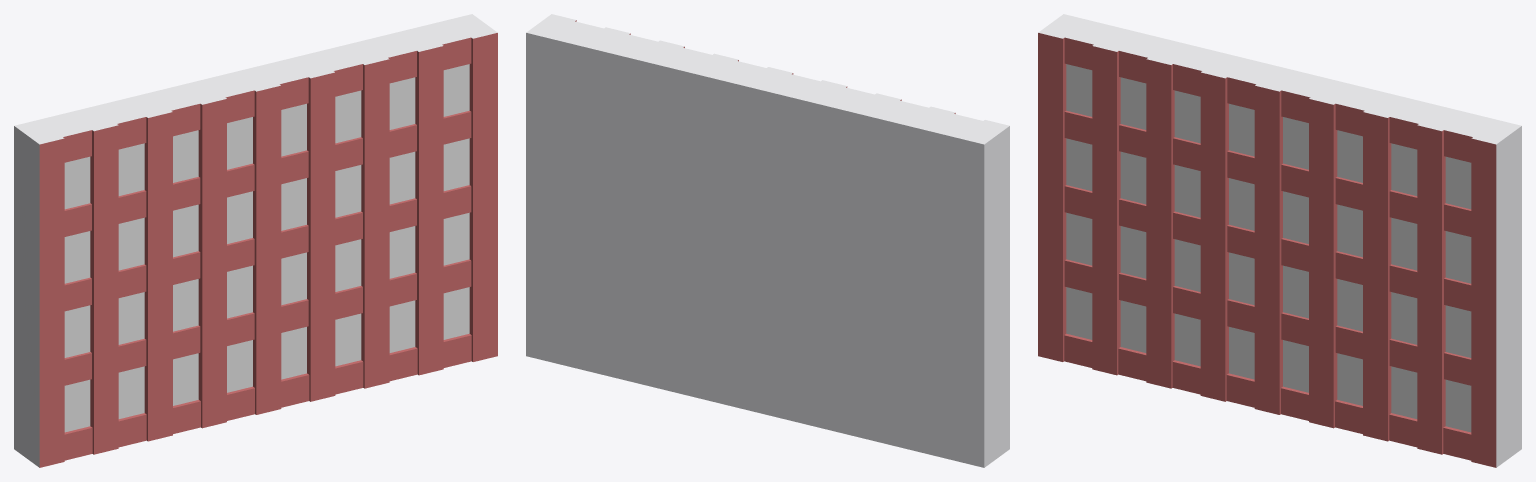
The model's file is Wall_7.fbx.
3 renders of one model, left to right at view 1: azimuth 30°, elevation 25°; view 2: azimuth 150°, elevation 25°; view 3: azimuth 330°, elevation 25°, orthographic.
Parts seen in each view (by area): view 1: Asian_Prop_Building_Modular_Wall_Lattice_01.002, Asian_Prop_Building_Modular_Wall_Lattice_01, Asian_Prop_Building_Modular_Wall_Lattice_01.001; view 2: Asian_Prop_Building_Modular_Wall_Lattice_01.001; view 3: Asian_Prop_Building_Modular_Wall_Lattice_01.002, Asian_Prop_Building_Modular_Wall_Lattice_01, Asian_Prop_Building_Modular_Wall_Lattice_01.001.
Boxes of the visible parts, x1,y1,x2,y2 form: Asian_Prop_Building_Modular_Wall_Lattice_01.002: [39, 33, 497, 467]; Asian_Prop_Building_Modular_Wall_Lattice_01: [64, 64, 469, 432]; Asian_Prop_Building_Modular_Wall_Lattice_01.001: [14, 14, 497, 467]; Asian_Prop_Building_Modular_Wall_Lattice_01.001: [526, 14, 1009, 467]; Asian_Prop_Building_Modular_Wall_Lattice_01.002: [1038, 33, 1496, 467]; Asian_Prop_Building_Modular_Wall_Lattice_01: [1066, 64, 1471, 432]; Asian_Prop_Building_Modular_Wall_Lattice_01.001: [1038, 14, 1521, 467].
Size of the model in its own units: 517 by 349 by 50.
